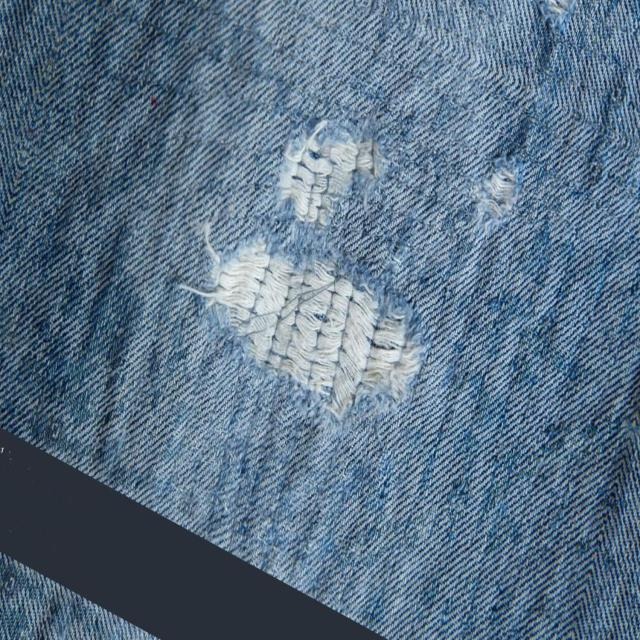cut: (209, 238, 416, 411), (282, 118, 387, 228), (478, 155, 524, 219)
